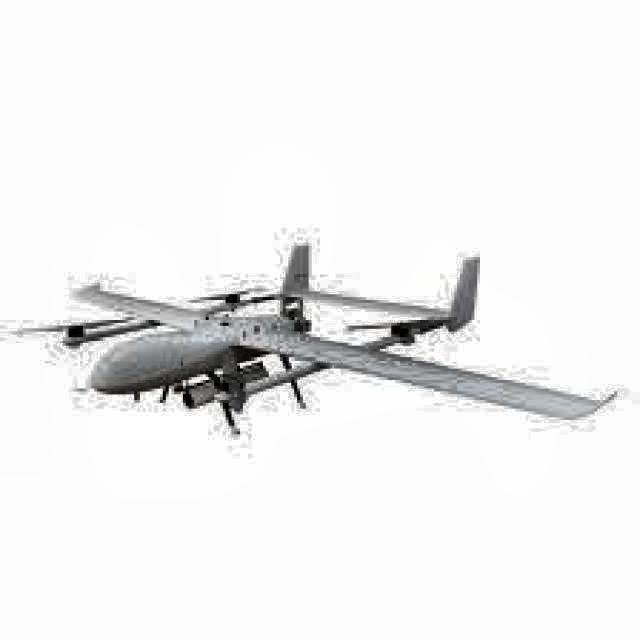iha: (8, 227, 626, 445)
